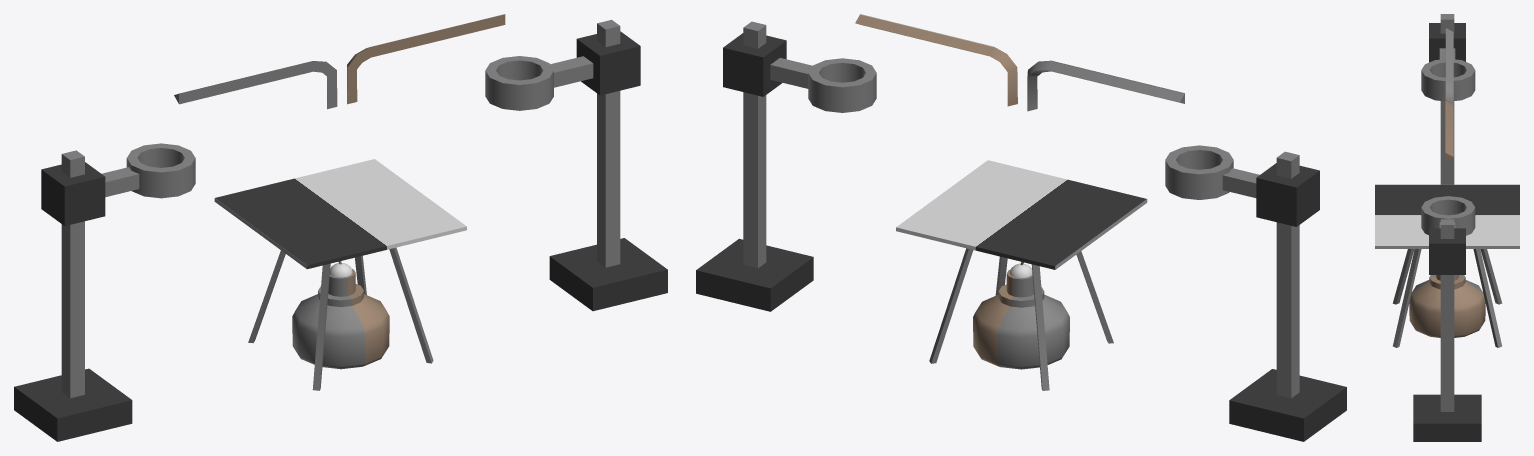
Rendered from Brewing.fbx.
The picture shows the model from 3 angles, left to right: view 1: azimuth 30°, elevation 25°; view 2: azimuth 150°, elevation 25°; view 3: azimuth 270°, elevation 25°; orthographic projection. The views are drawn at different scales.
Parts seen in each view (by area): view 1: Brewing, Brewing_Glass; view 2: Brewing, Brewing_Glass; view 3: Brewing, Brewing_Glass.
Part boxes in pixels (x1,y1,x2,y2): Brewing: [14, 19, 667, 441]; Brewing_Glass: [174, 14, 505, 369]; Brewing: [696, 21, 1346, 441]; Brewing_Glass: [855, 14, 1184, 369]; Brewing: [1392, 14, 1502, 441]; Brewing_Glass: [1375, 28, 1519, 337].
Size of the model in its own units: 153 by 71.74 by 40.17.
Materials: 1 (1 with a texture image).
